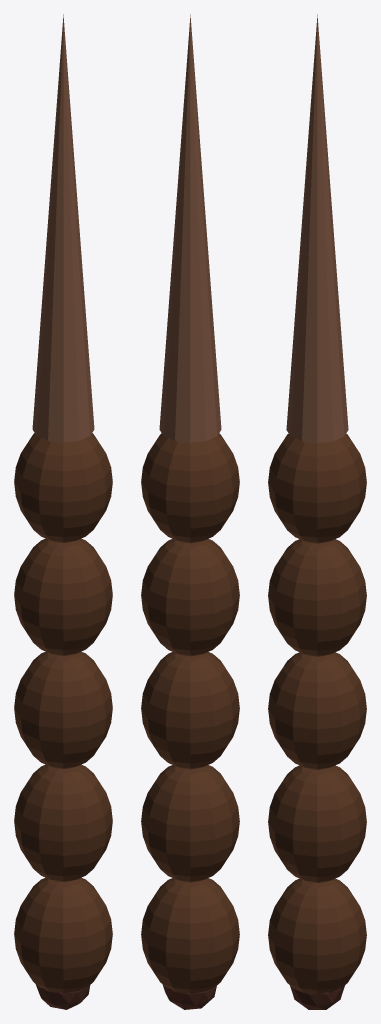
File: Wand 220.glb
3 views of the same model, side by side, from view 1: azimuth 30°, elevation 25°; view 2: azimuth 210°, elevation 25°; view 3: azimuth 270°, elevation 25° (orthographic).
Parts seen in each view (by area): view 1: GeneratedWand; view 2: GeneratedWand; view 3: GeneratedWand.
Part boxes in pixels (bbox=[...]): GeneratedWand: bbox=[14, 14, 112, 1009]; GeneratedWand: bbox=[141, 14, 239, 1009]; GeneratedWand: bbox=[268, 14, 366, 1009].
Bounding box in the file's own units: 0.0447 × 0.4985 × 0.0449.
